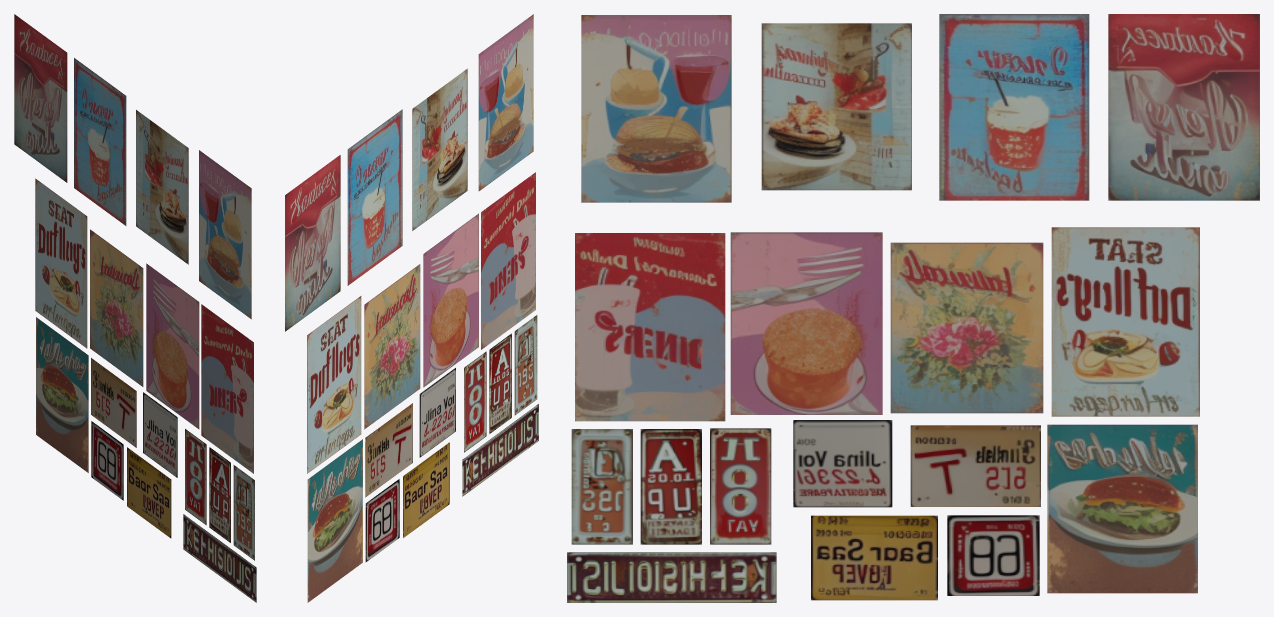
The model's file is Signboard.dae.
The picture shows the model from 3 angles, left to right: view 1: azimuth 30°, elevation 25°; view 2: azimuth 150°, elevation 25°; view 3: azimuth 270°, elevation 25°; orthographic projection. The views are drawn at different scales.
Visible parts, largest first — view 1: Signboard, Signboard_04, Signboard_07, Signboard_03, Signboard_01, Signboard_06, Signboard_05, Signboard_08, Signboard_02, Signboard_11, Signboard_16, Signboard_09 (+5 smaller); view 2: Signboard_03, Signboard_01, Signboard, Signboard_04, Signboard_07, Signboard_06, Signboard_05, Signboard_08, Signboard_02, Signboard_11, Signboard_16, Signboard_09 (+5 smaller); view 3: Signboard_07, Signboard, Signboard_03, Signboard_04, Signboard_01, Signboard_06, Signboard_05, Signboard_08, Signboard_02, Signboard_11, Signboard_09, Signboard_16 (+5 smaller).
Part boxes in pixels (left/top/right/bottom): Signboard: left=14, top=14, right=67, bottom=182; Signboard_04: left=35, top=178, right=87, bottom=348; Signboard_07: left=201, top=304, right=253, bottom=473; Signboard_03: left=199, top=150, right=251, bottom=319; Signboard_01: left=74, top=58, right=126, bottom=225; Signboard_06: left=146, top=263, right=199, bottom=429; Signboard_05: left=90, top=229, right=143, bottom=386; Signboard_08: left=36, top=317, right=88, bottom=472; Signboard_02: left=136, top=110, right=188, bottom=264; Signboard_11: left=127, top=447, right=171, bottom=538; Signboard_16: left=183, top=514, right=256, bottom=602; Signboard_09: left=91, top=358, right=136, bottom=447; Signboard_03: left=478, top=14, right=533, bottom=191; Signboard_01: left=347, top=109, right=402, bottom=285; Signboard: left=285, top=155, right=340, bottom=331; Signboard_04: left=307, top=296, right=361, bottom=473; Signboard_07: left=481, top=172, right=535, bottom=349; Signboard_06: left=423, top=213, right=478, bottom=387; Signboard_05: left=364, top=264, right=420, bottom=429; Signboard_08: left=307, top=439, right=362, bottom=602; Signboard_02: left=412, top=68, right=467, bottom=230; Signboard_11: left=403, top=442, right=449, bottom=537; Signboard_16: left=462, top=404, right=538, bottom=496; Signboard_09: left=365, top=403, right=412, bottom=497; Signboard_07: left=575, top=233, right=725, bottom=421; Signboard: left=1108, top=14, right=1259, bottom=200; Signboard_03: left=581, top=15, right=731, bottom=202; Signboard_04: left=1051, top=227, right=1199, bottom=416; Signboard_01: left=939, top=14, right=1089, bottom=200; Signboard_06: left=730, top=232, right=882, bottom=414; Signboard_05: left=890, top=242, right=1043, bottom=413; Signboard_08: left=1047, top=424, right=1197, bottom=593; Signboard_02: left=761, top=23, right=911, bottom=190; Signboard_11: left=811, top=515, right=937, bottom=600; Signboard_09: left=910, top=425, right=1040, bottom=506; Signboard_16: left=567, top=552, right=776, bottom=602.
Size of the model in its own units: 3.28e-07 by 2.17 by 2.04.
1 material, 1 textured.
